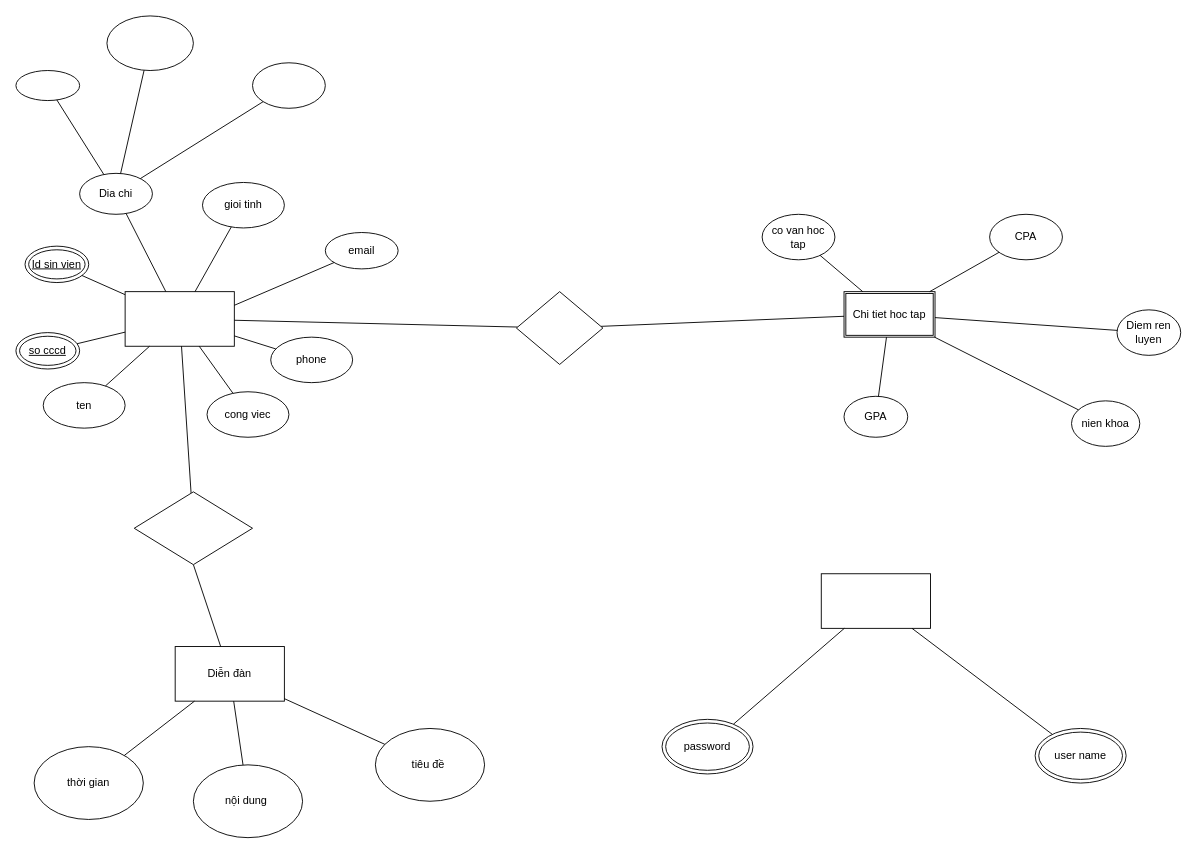
This 1197x854 diagram has some shape labels left out. The box of each missing label's shape, as (x1, y1, x2, y2) in pixels:
quan tri vien: (820, 573, 930, 628)
quan/huyen: (252, 62, 325, 108)
Sinh Vien: (124, 291, 234, 346)
Thông tin: (516, 291, 603, 364)
tinh/thanh pho: (106, 15, 193, 71)
xa/phuong: (15, 70, 80, 101)
Đăng tin: (133, 491, 253, 565)
